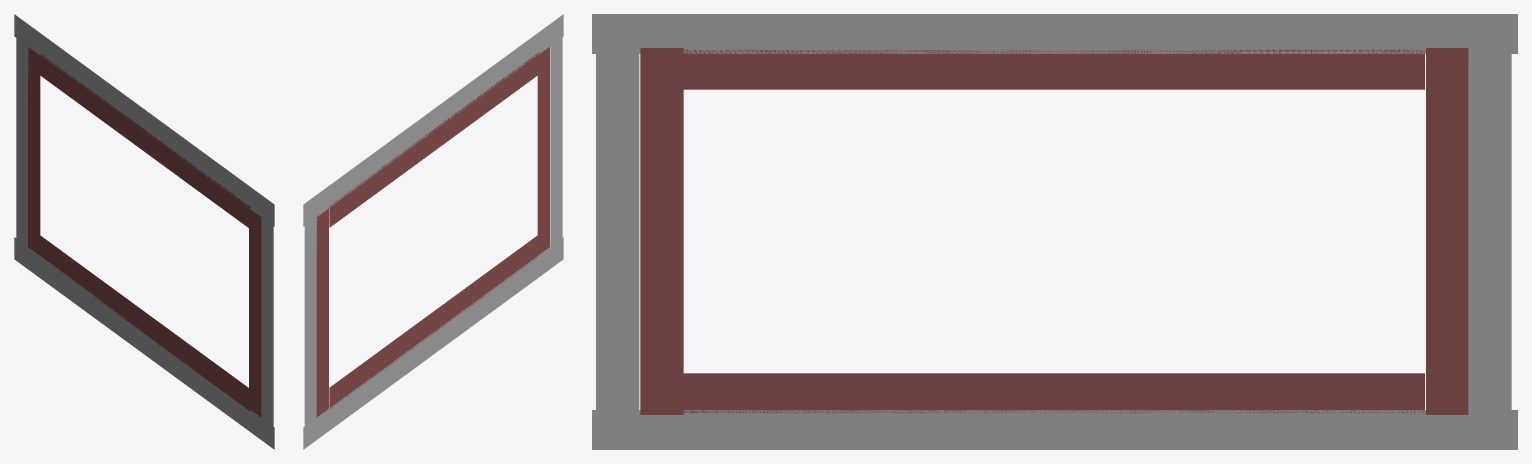
Rendered from lnwr-cab-details.dae.
3 views of the same model, side by side, from view 1: azimuth 30°, elevation 25°; view 2: azimuth 150°, elevation 25°; view 3: azimuth 270°, elevation 25° (orthographic). The views are drawn at different scales.
Parts seen in each view (by area): view 1: Plane_002, Plane_003, Plane_010, Plane_009, Plane_004, Plane_006, Plane_008, Plane_005; view 2: Plane_003, Plane_002, Plane_010, Plane_009, Plane_004, Plane_005, Plane_006, Plane_008; view 3: Plane_003, Plane_002, Plane_009, Plane_010, Plane_005, Plane_008, Plane_006, Plane_004.
Part boxes in pixels (x1=…): Plane_002: x1=14, y1=14, x2=274, y2=226; Plane_003: x1=14, y1=237, x2=274, y2=449; Plane_010: x1=40, y1=53, x2=250, y2=229; Plane_009: x1=40, y1=235, x2=250, y2=411; Plane_004: x1=261, y1=216, x2=273, y2=430; Plane_006: x1=28, y1=47, x2=40, y2=255; Plane_008: x1=249, y1=210, x2=261, y2=417; Plane_005: x1=16, y1=38, x2=28, y2=246; Plane_003: x1=303, y1=237, x2=563, y2=449; Plane_002: x1=303, y1=14, x2=563, y2=226; Plane_010: x1=329, y1=52, x2=539, y2=227; Plane_009: x1=329, y1=234, x2=539, y2=408; Plane_004: x1=550, y1=36, x2=562, y2=250; Plane_005: x1=304, y1=217, x2=316, y2=425; Plane_006: x1=316, y1=208, x2=328, y2=417; Plane_008: x1=537, y1=47, x2=549, y2=253; Plane_003: x1=592, y1=410, x2=1517, y2=449; Plane_002: x1=592, y1=14, x2=1517, y2=53; Plane_009: x1=683, y1=373, x2=1424, y2=413; Plane_010: x1=683, y1=49, x2=1424, y2=89; Plane_005: x1=1468, y1=48, x2=1511, y2=414; Plane_008: x1=640, y1=48, x2=683, y2=414; Plane_006: x1=1426, y1=48, x2=1469, y2=414; Plane_004: x1=596, y1=51, x2=639, y2=417.
Size of the model in its own units: 0.000525 by 0.9971 by 0.518.
